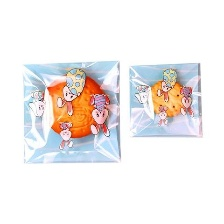snack: (15, 56, 124, 171), (123, 56, 207, 145)
